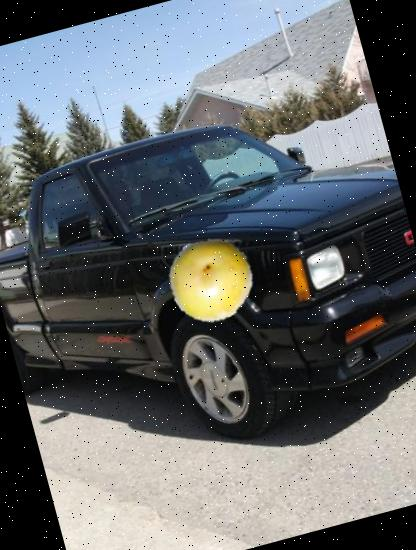Maracuja: (160, 228, 262, 331)
